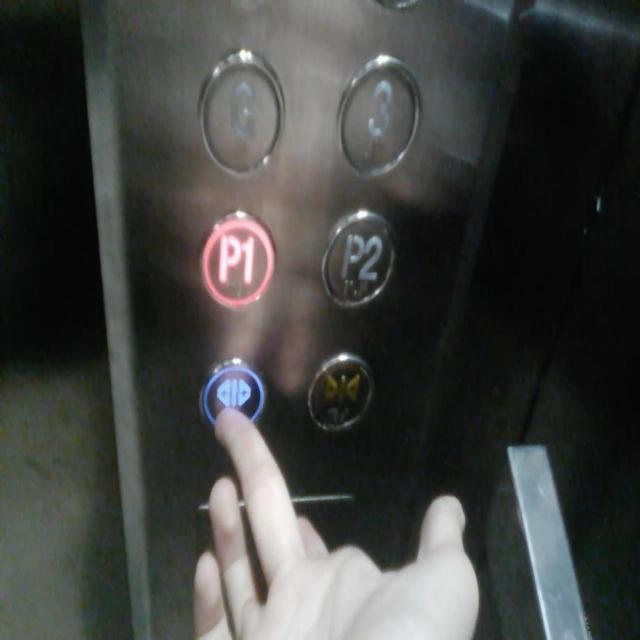3: (333, 51, 423, 185)
G: (196, 46, 288, 184)
P1: (196, 203, 278, 314)
P2: (319, 204, 396, 314)
close: (304, 350, 376, 438)
open: (198, 355, 268, 446)
